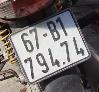1: (54, 16, 71, 38)
4: (44, 46, 63, 70), (70, 35, 87, 59)
6: (18, 31, 36, 54)
7: (21, 55, 41, 81), (57, 39, 76, 64), (28, 26, 45, 50)
9: (32, 50, 52, 75)
B: (44, 19, 63, 43)
